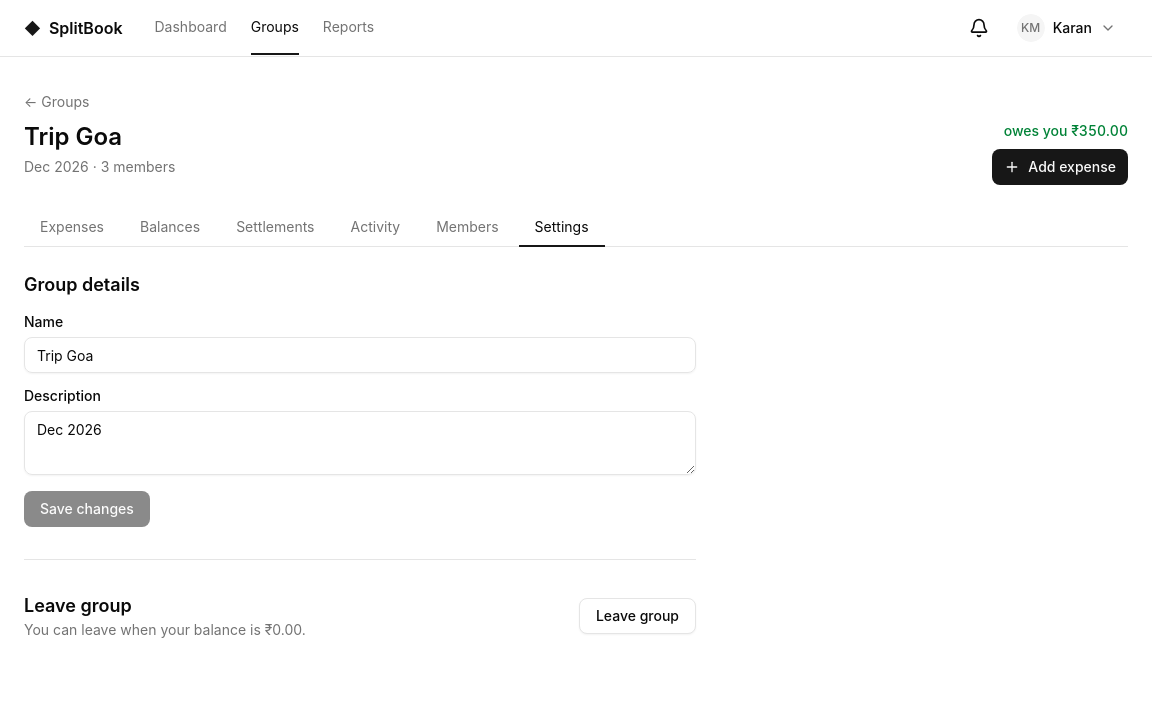
§6–§7 group, members, leave, delete › member leaving with a balance is told to settle up
Click the button "Leave group" at (637,616), box left=579, top=598, right=696, bottom=634
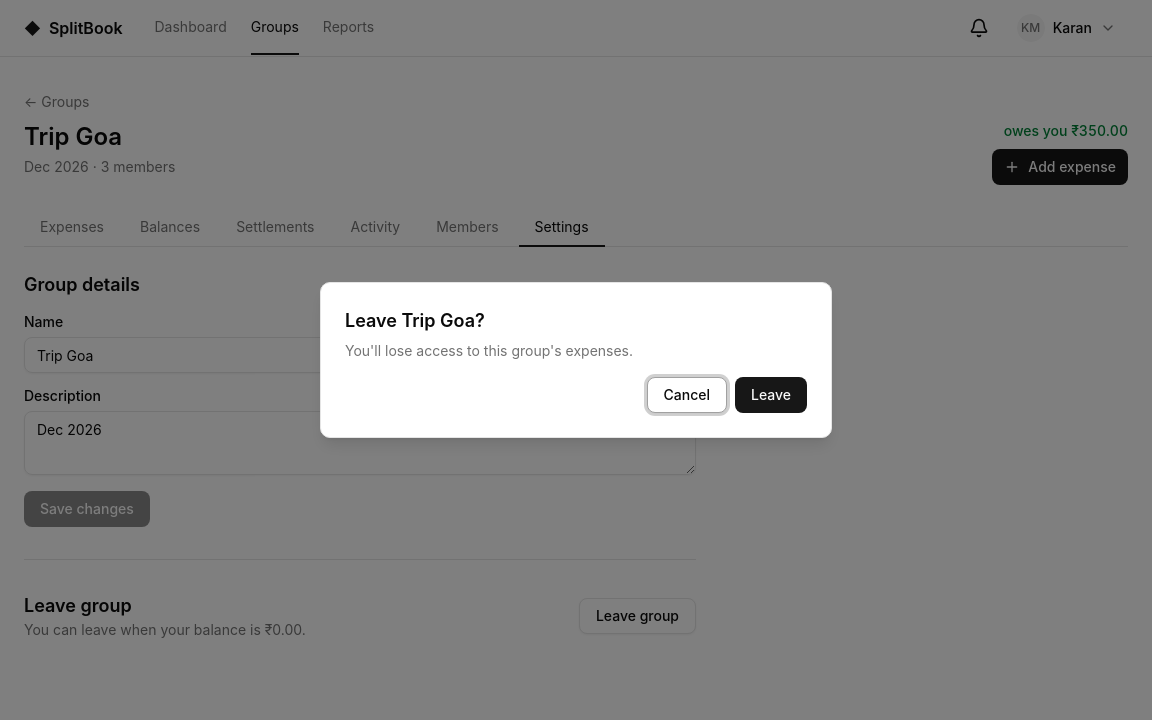
Click the button "Leave" at (771,395), box left=735, top=377, right=807, bottom=413
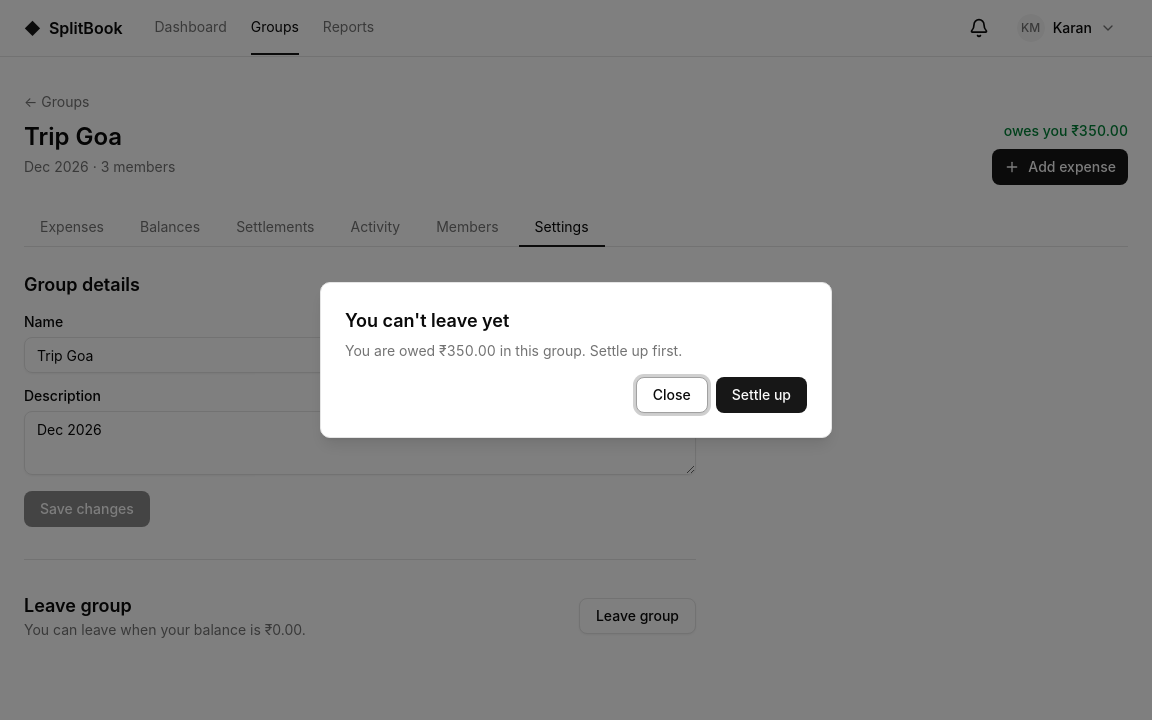
Now the heading "You can't leave yet" is shown, box left=345, top=307, right=509, bottom=335
